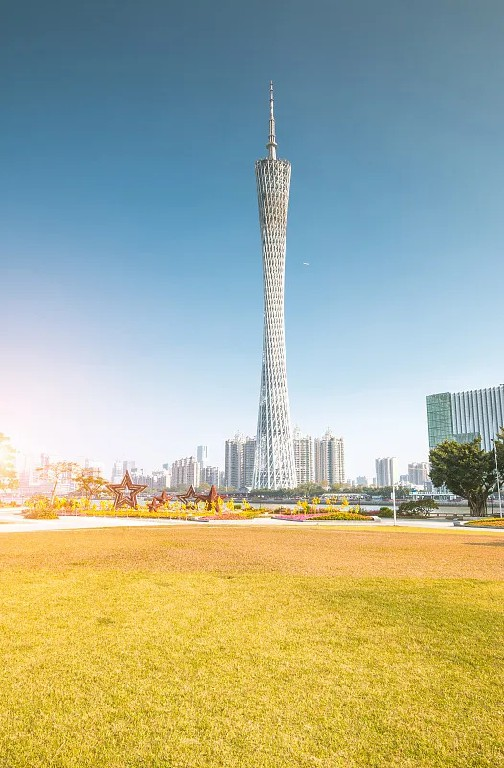Canton: (250, 73, 299, 491)
